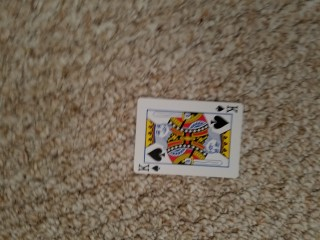KingOfSpades: (132, 96, 244, 179)
